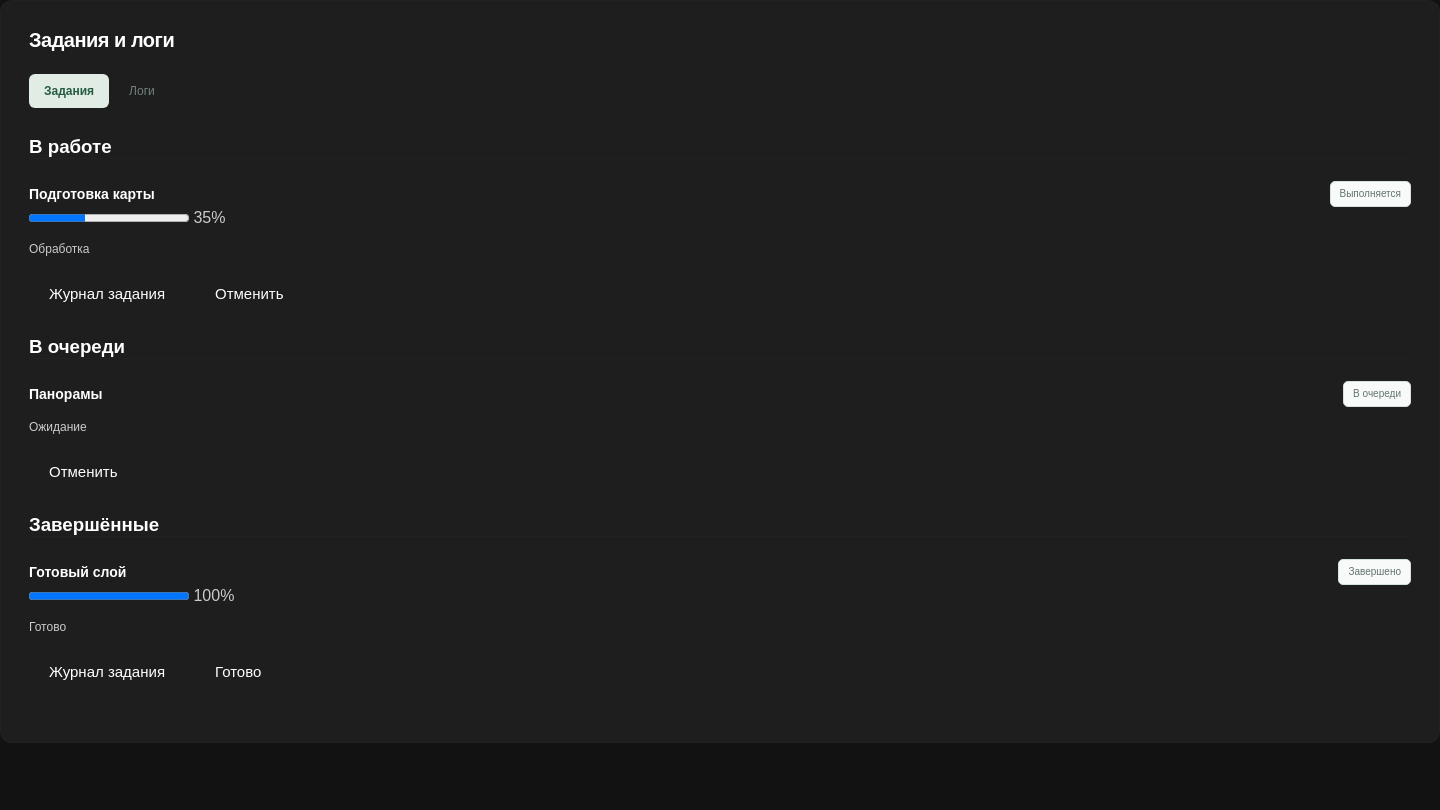
Scenario: one list orders running, queued and finished jobs and dismisses finished cards
Expected: the text "Готовый слой" is shown, left=29, top=564, right=126, bottom=580
Click the button "Готово": (238, 671) left=195, top=651, right=281, bottom=692
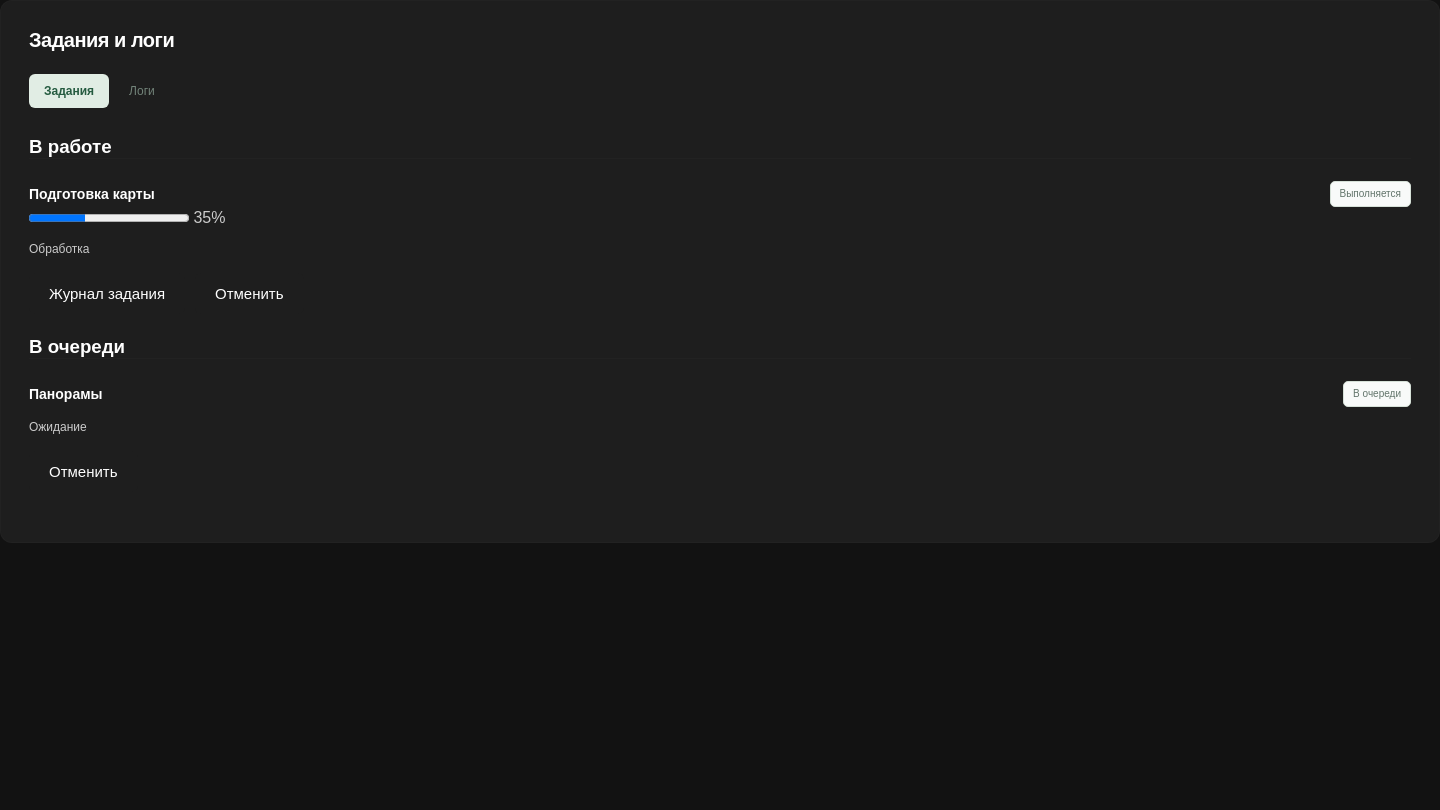
Result: the text "Готовый слой" is gone
